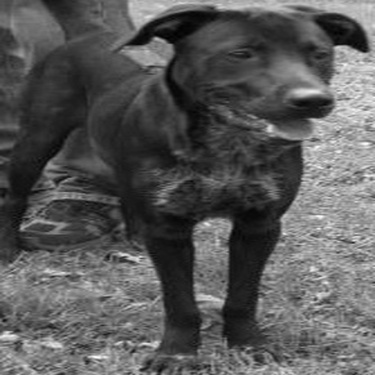dog: (1, 5, 372, 373)
